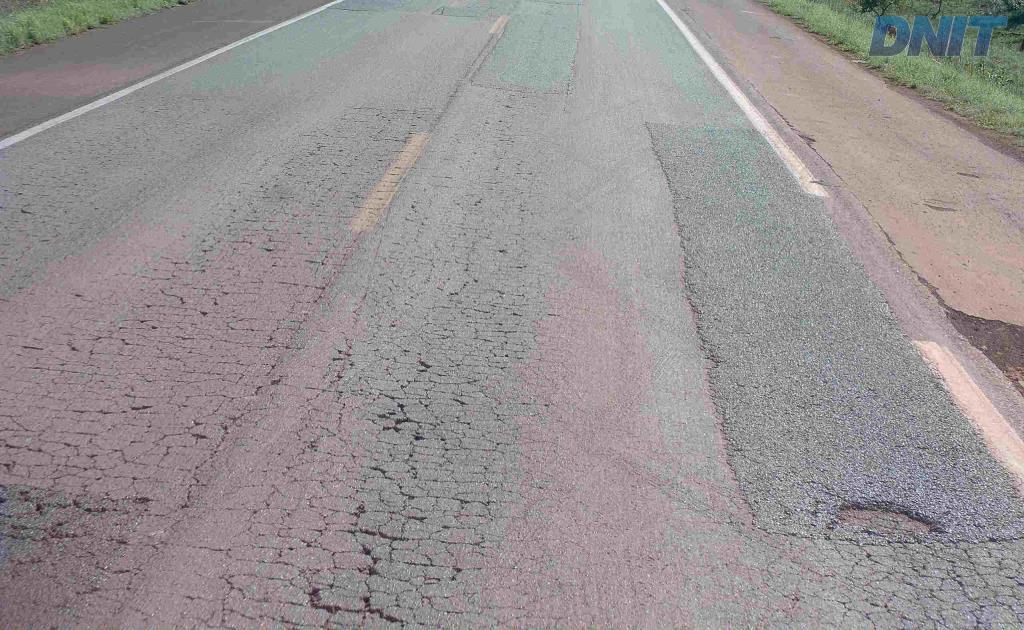crack: (885, 536, 1023, 599), (335, 491, 427, 566), (374, 402, 428, 440)
pothole: (824, 493, 944, 540)
